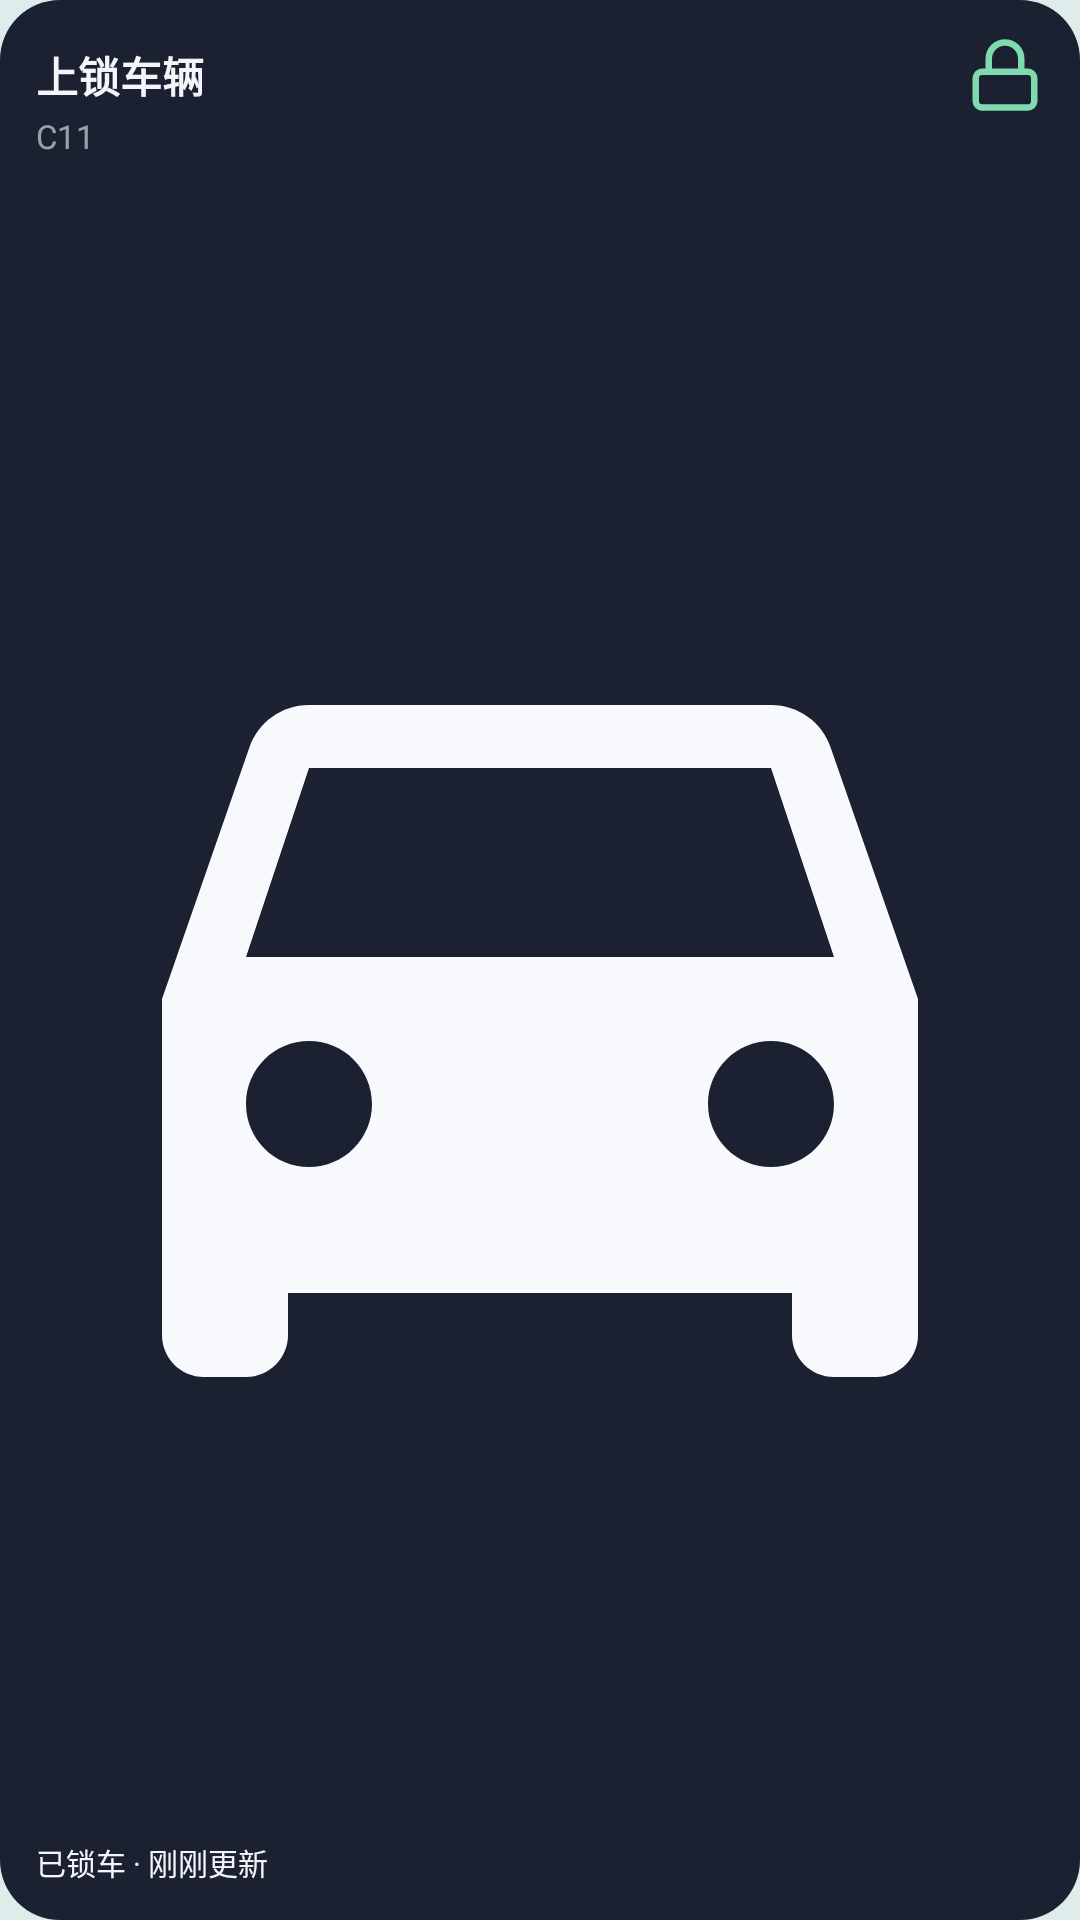

Point at icon controls on the screen. Image size 1080w x 1920h, points as (x,y).
widget lock: (1005,75)
